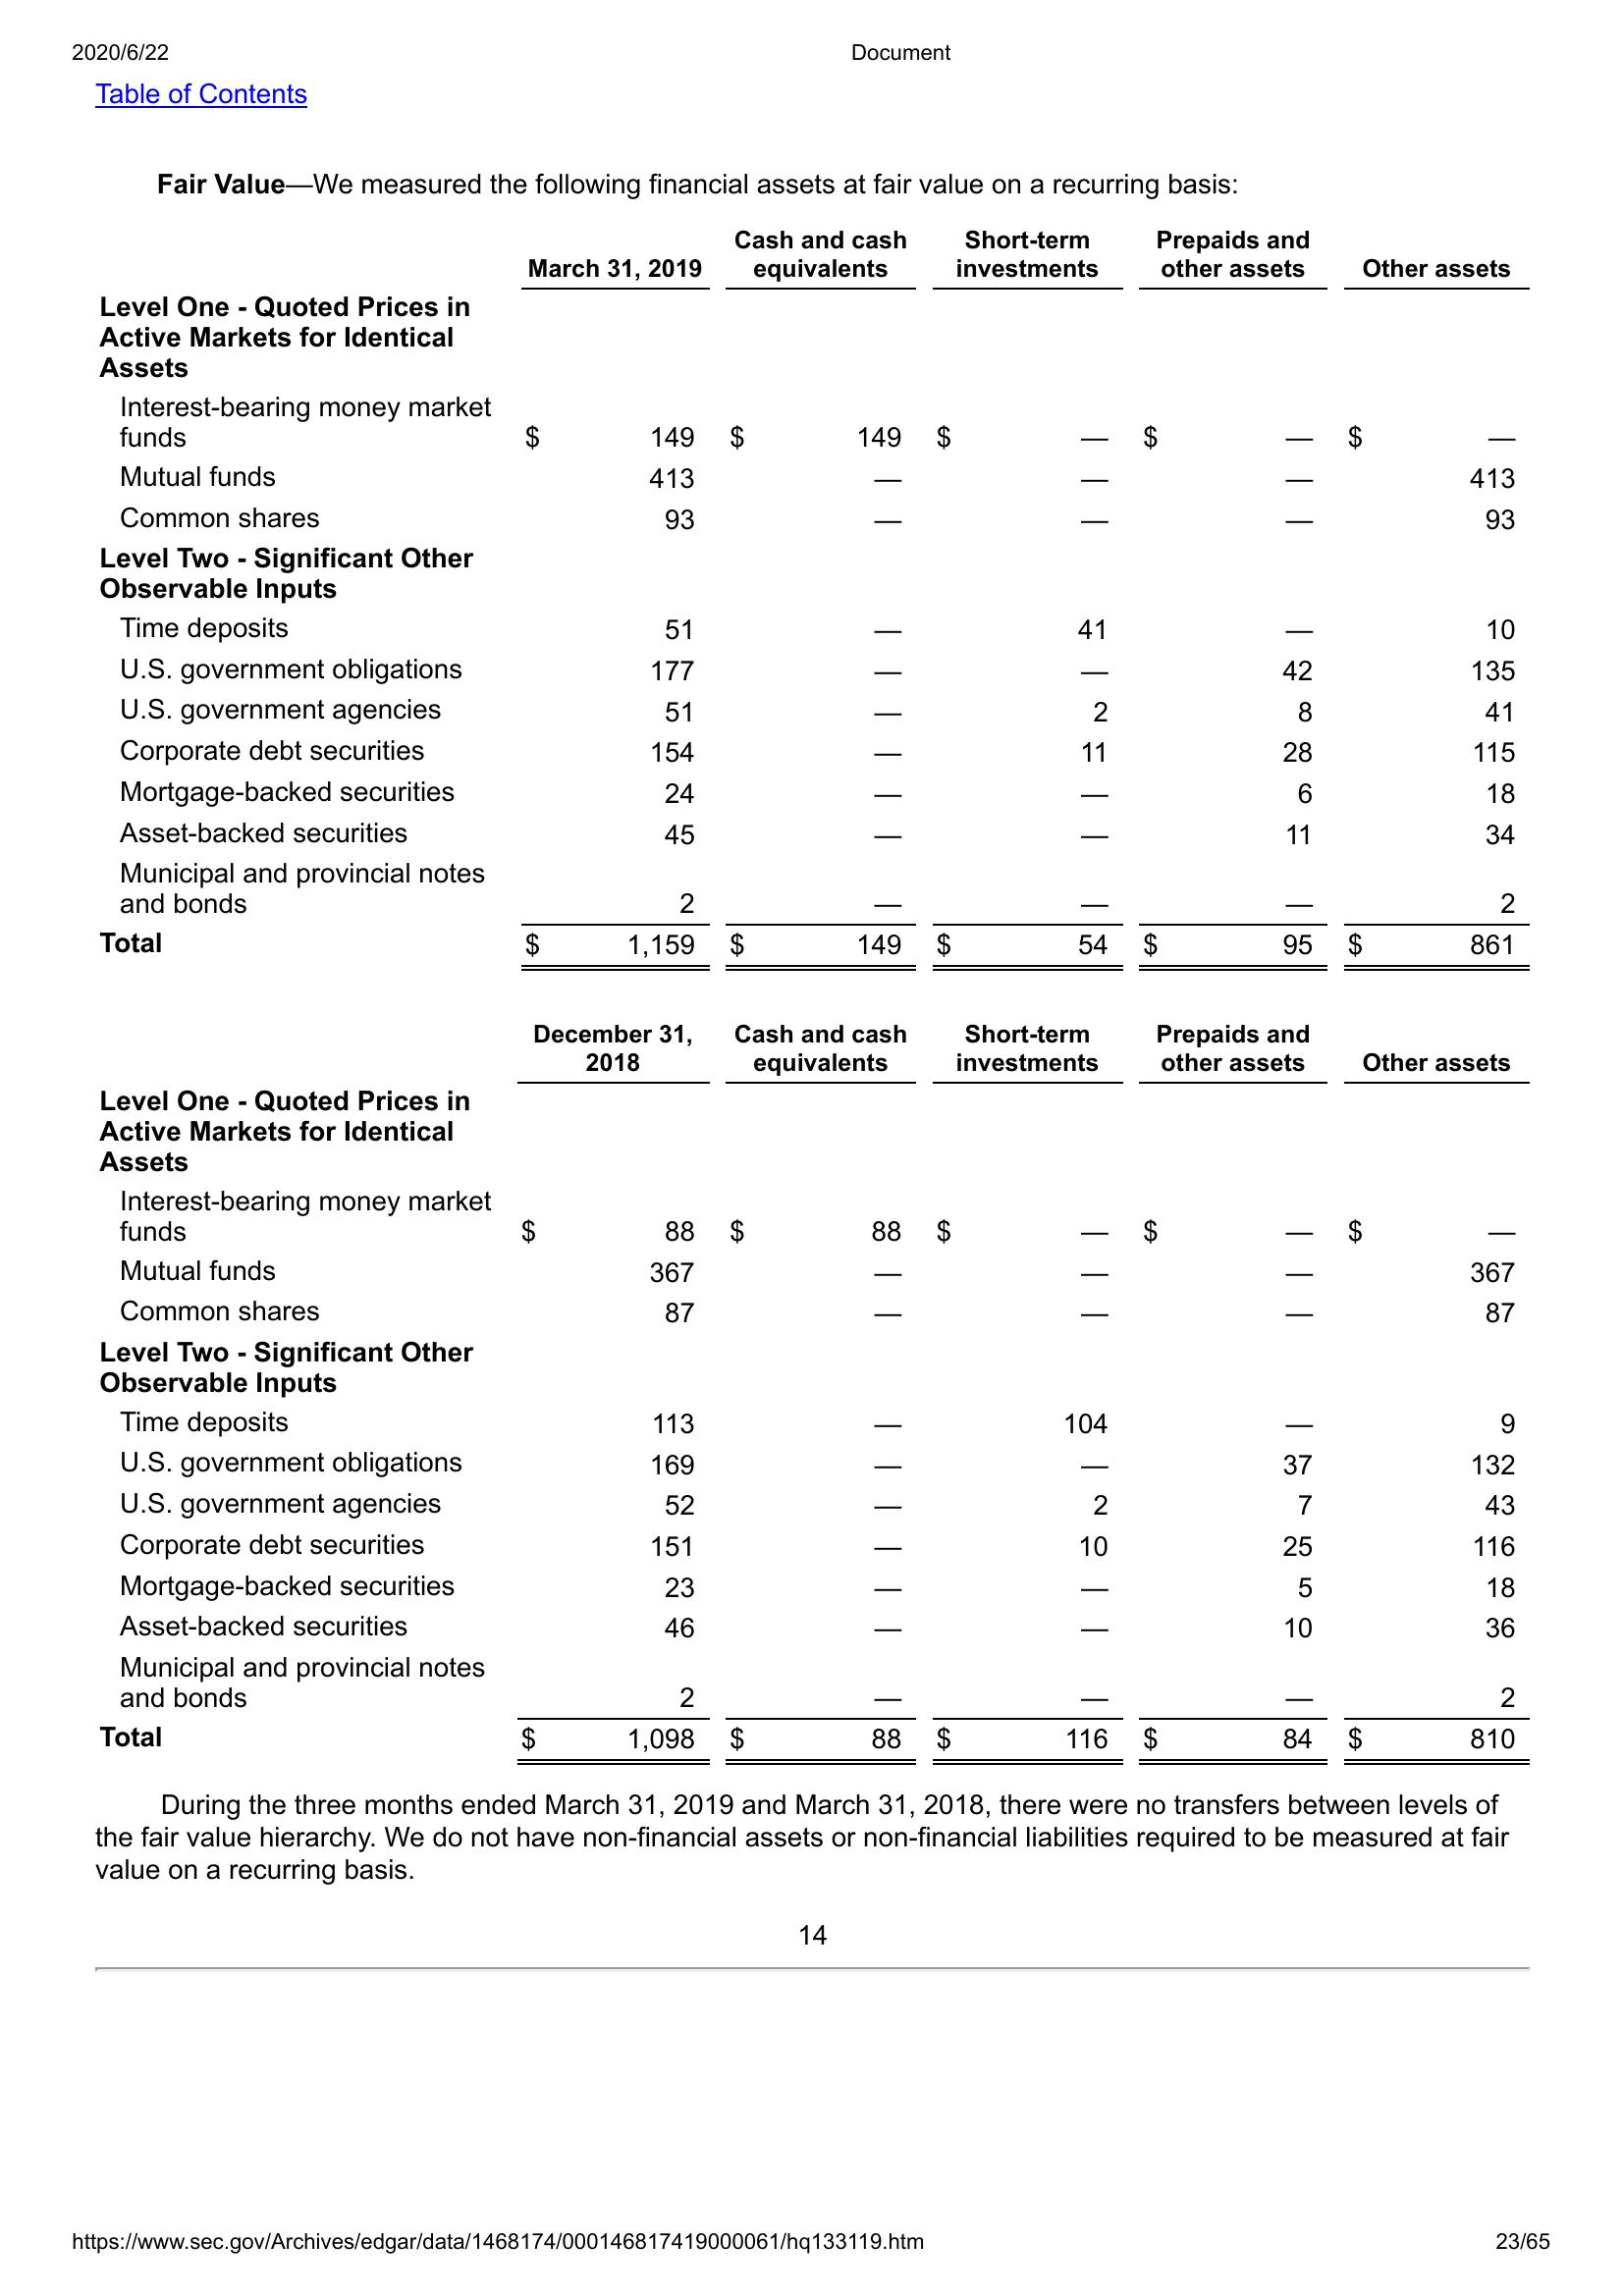table: (88, 1016, 1535, 1775), (84, 228, 1540, 974)
